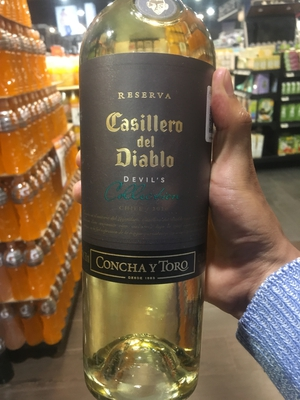casillero del diablo devils collection verde: (67, 3, 218, 400)
